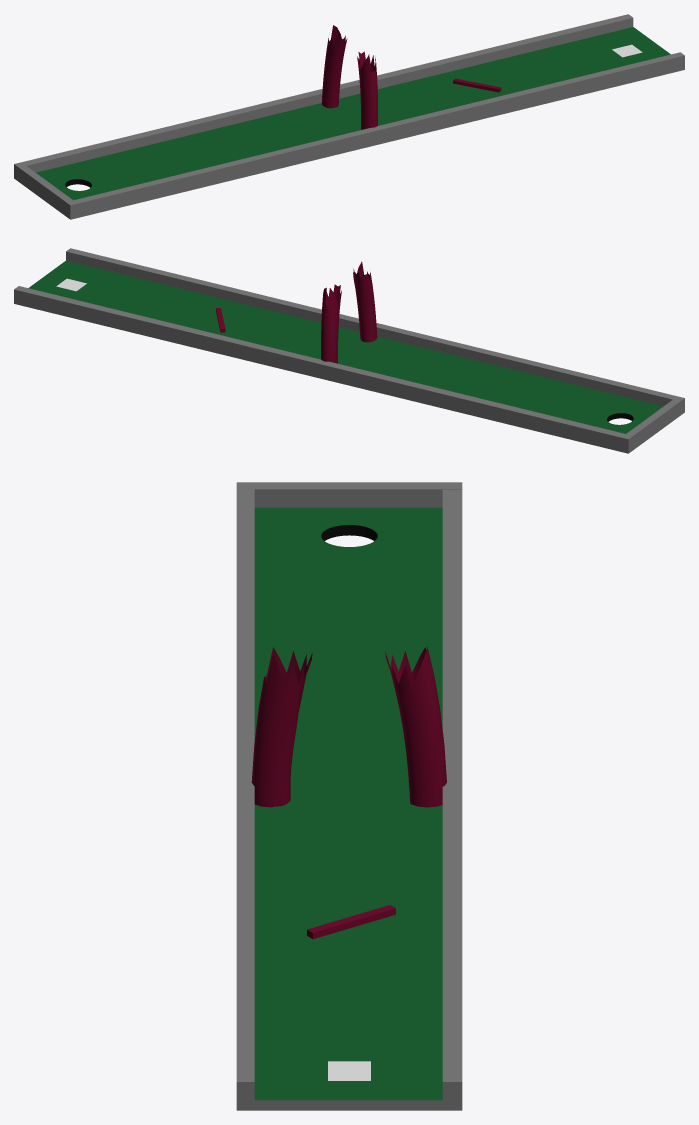
The model's file is piste2.fbx.
3 views of the same model, one above another, from view 1: azimuth 30°, elevation 25°; view 2: azimuth 150°, elevation 25°; view 3: azimuth 270°, elevation 25° (orthographic). The views are drawn at different scales.
Parts seen in each view (by area): view 1: Cube, Torus; view 2: Cube, Torus; view 3: Cube, Torus, Cube.001.
Boxes of the visible parts, bbox=[...] form: Cube: bbox=[14, 14, 684, 219]; Torus: bbox=[321, 25, 377, 129]; Cube: bbox=[14, 248, 684, 453]; Torus: bbox=[321, 261, 377, 363]; Cube: bbox=[236, 482, 462, 1110]; Torus: bbox=[251, 646, 446, 807]; Cube.001: bbox=[307, 905, 395, 939].
Size of the model in its own units: 1993 by 272 by 317.
